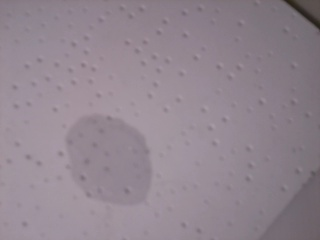Water_detected: (76, 129, 139, 192)
